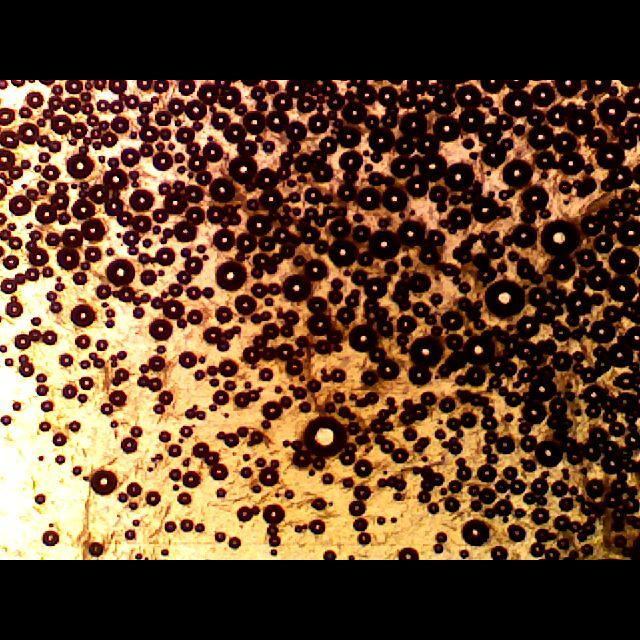microbeads: (484, 276, 524, 320), (303, 418, 347, 457), (540, 218, 578, 258), (215, 260, 247, 292), (368, 230, 400, 260), (104, 260, 136, 288), (88, 470, 120, 494), (66, 304, 98, 324)
